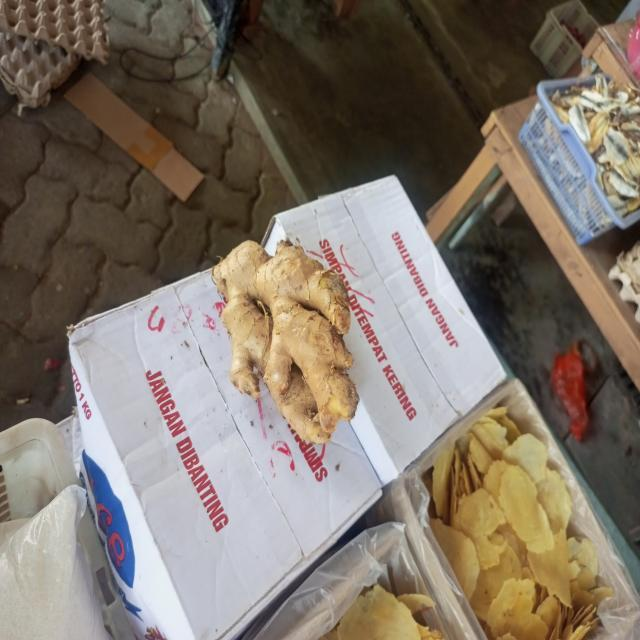ginger: (216, 241, 358, 443)
